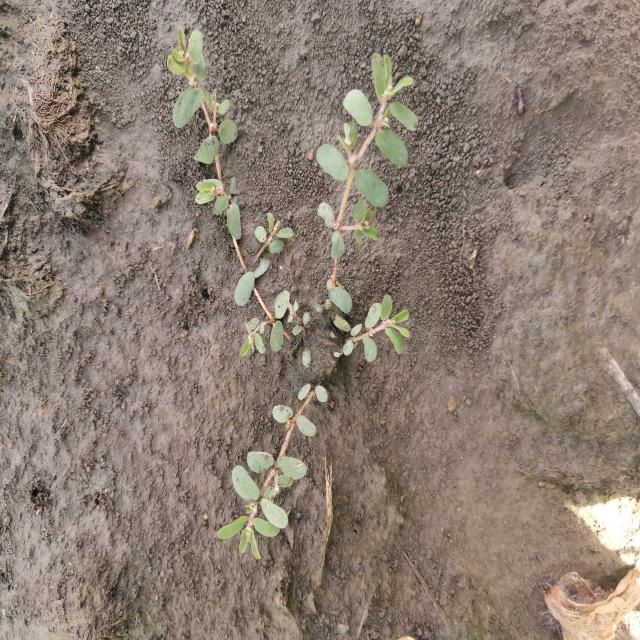SpottedSpurge: (165, 24, 422, 563)
